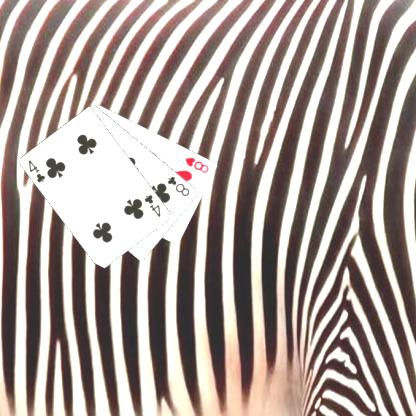4C: (141, 192, 162, 219), (26, 157, 46, 184)
8C: (164, 173, 192, 198)
8H: (182, 155, 210, 174)
